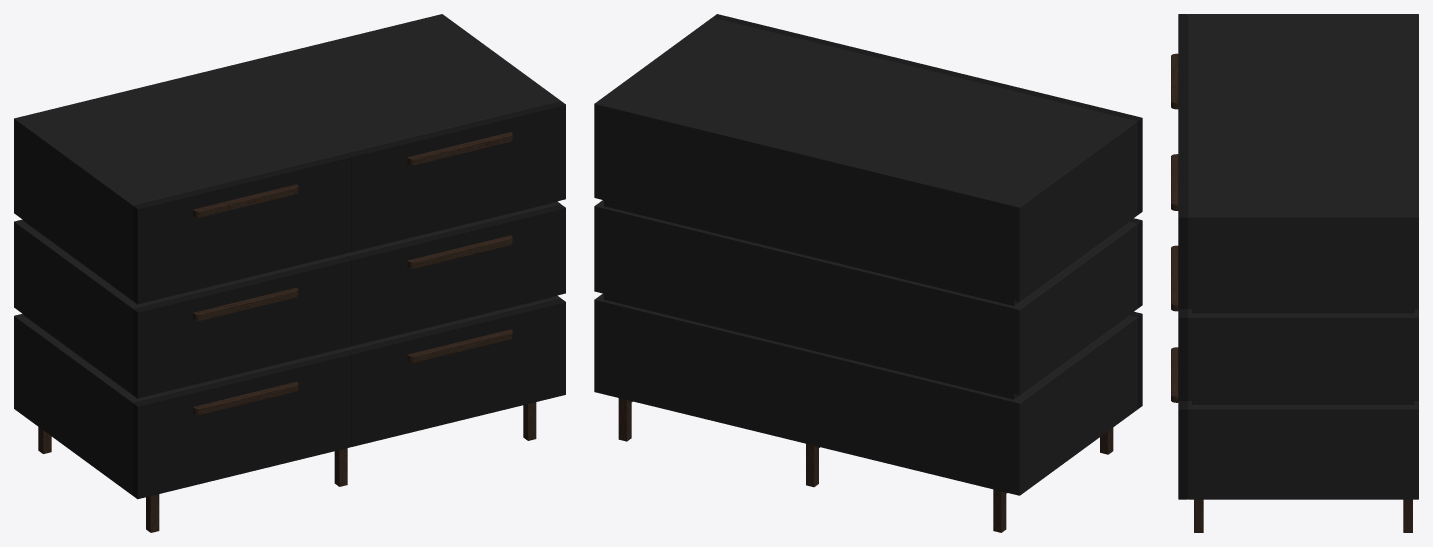
Rendered from spintele.glb.
The picture shows the model from 3 angles, left to right: view 1: azimuth 30°, elevation 25°; view 2: azimuth 150°, elevation 25°; view 3: azimuth 270°, elevation 25°; orthographic projection. The views are drawn at different scales.
Parts seen in each view (by area): view 1: Drawer.001; view 2: Drawer.001; view 3: Drawer.001.
Boxes of the visible parts, x1=… form: Drawer.001: x1=14, y1=14, x2=565, y2=532; Drawer.001: x1=594, y1=14, x2=1142, y2=532; Drawer.001: x1=1171, y1=14, x2=1418, y2=532.
Size of the model in its own units: 1 by 0.748 by 0.515.
Materials: 3 (1 with a texture image).
